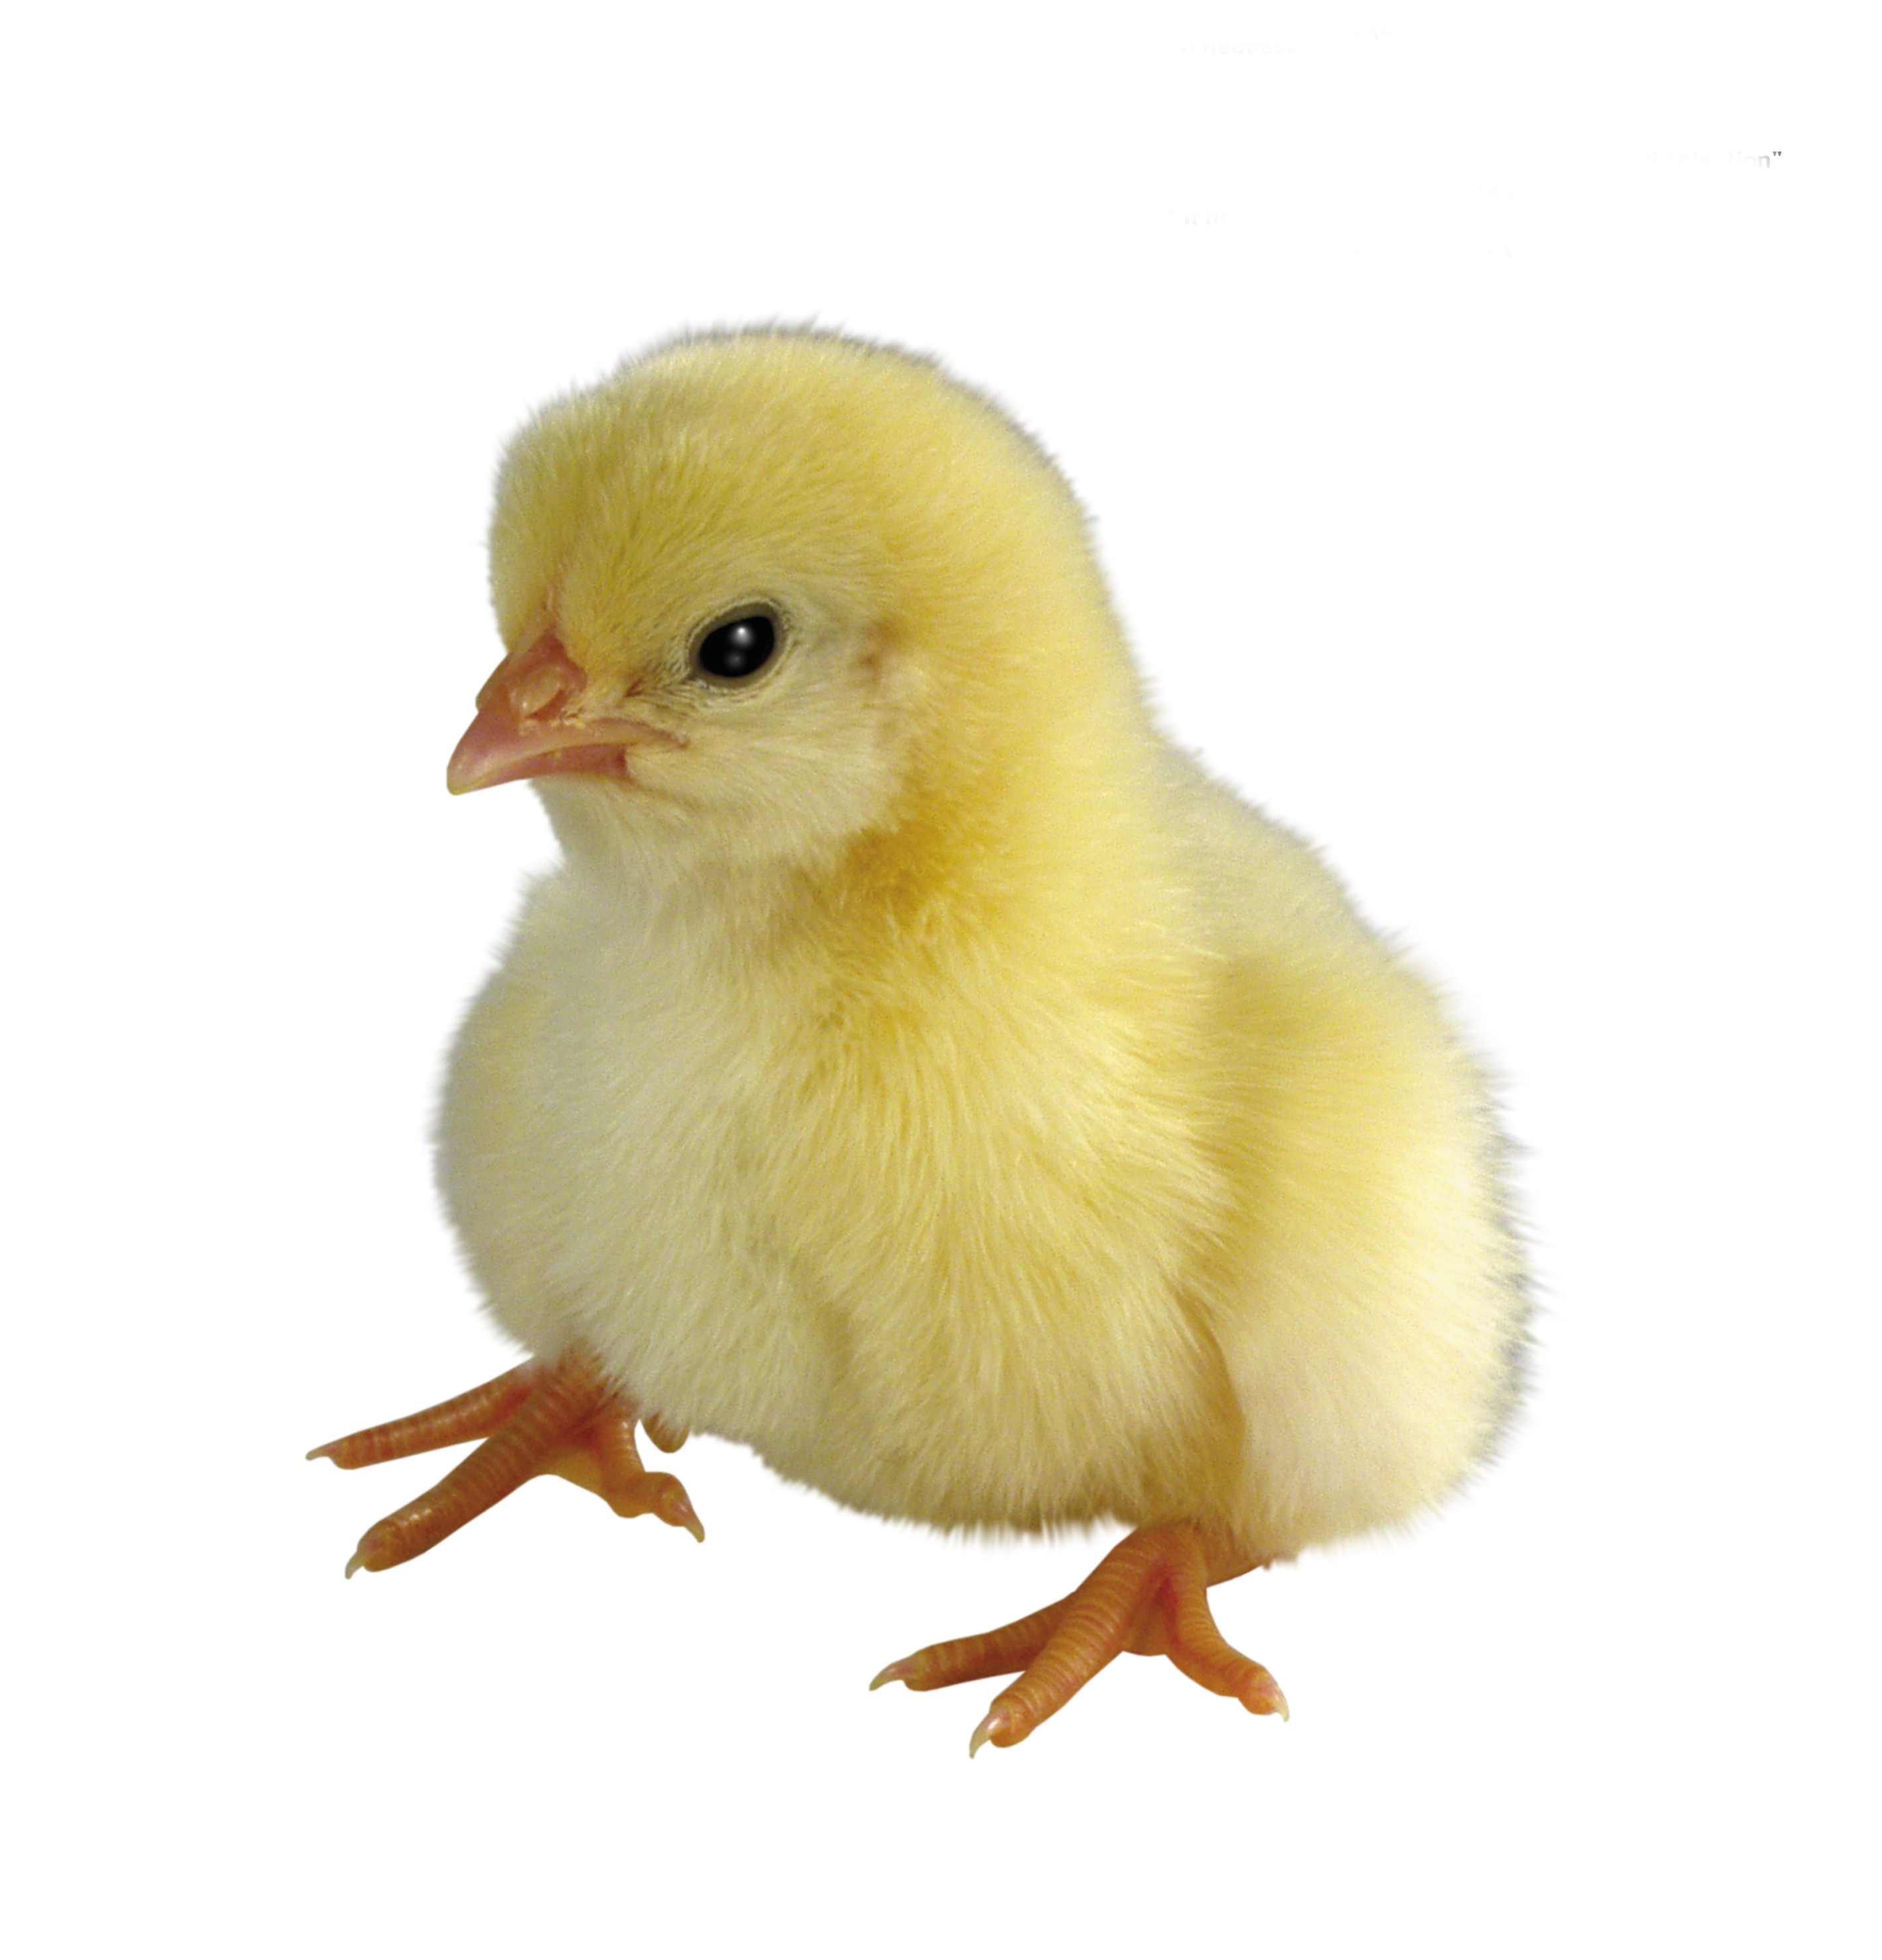hen: (299, 301, 1537, 1773)
